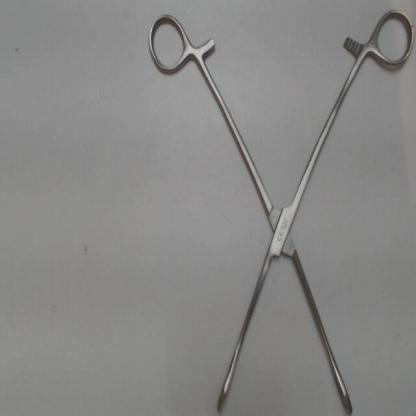Sponge Forceps: (142, 0, 415, 414)
